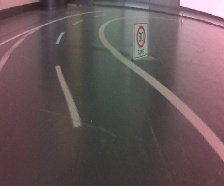zone 30 sign: (131, 22, 149, 60)
